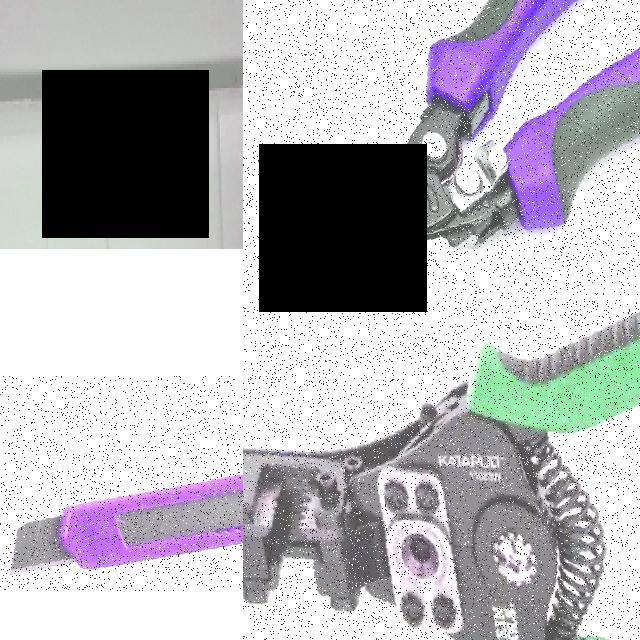estilete: (12, 476, 241, 569)
